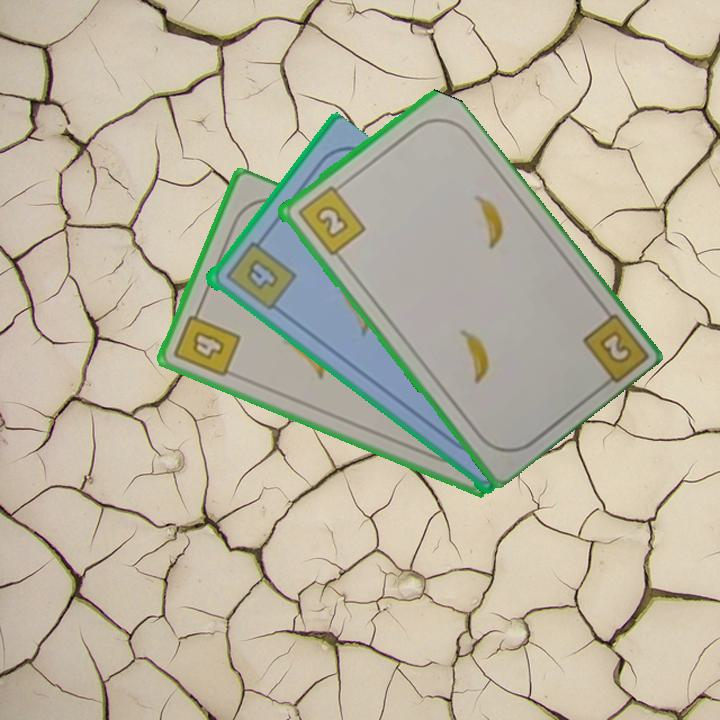2b: (293, 179, 368, 258), (595, 326, 635, 367)
4b: (221, 233, 298, 313), (170, 302, 244, 380)
